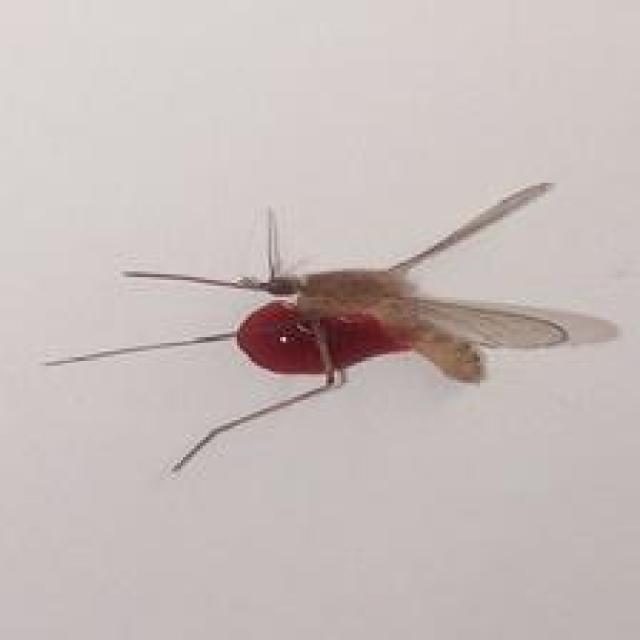Culex: (43, 180, 620, 474)
